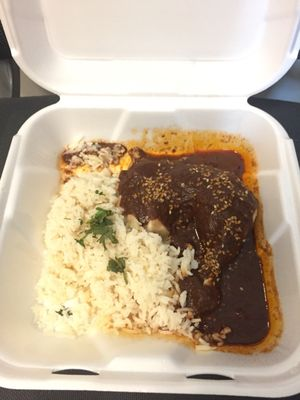curry: (0, 0, 299, 387)
